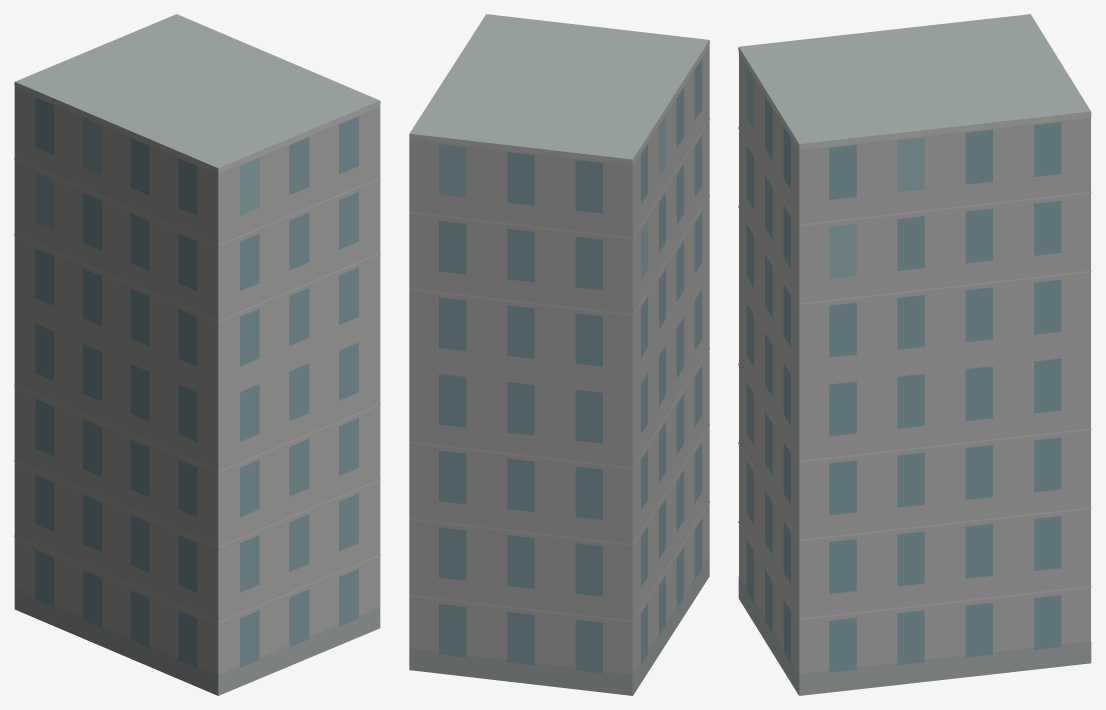
Rendered from survey-upis-32654363.glb.
The picture shows the model from 3 angles, left to right: view 1: azimuth 30°, elevation 25°; view 2: azimuth 150°, elevation 25°; view 3: azimuth 270°, elevation 25°; orthographic projection. The views are drawn at different scales.
Parts seen in each view (by area): view 1: survey-upis-32654363.tmp; view 2: survey-upis-32654363.tmp; view 3: survey-upis-32654363.tmp.
Part boxes in pixels (x1,y1,x2,y2): survey-upis-32654363.tmp: [14, 14, 380, 695]; survey-upis-32654363.tmp: [409, 14, 709, 695]; survey-upis-32654363.tmp: [738, 14, 1091, 695].
Bounding box in the file's own units: 11.15 × 22 × 12.76.
